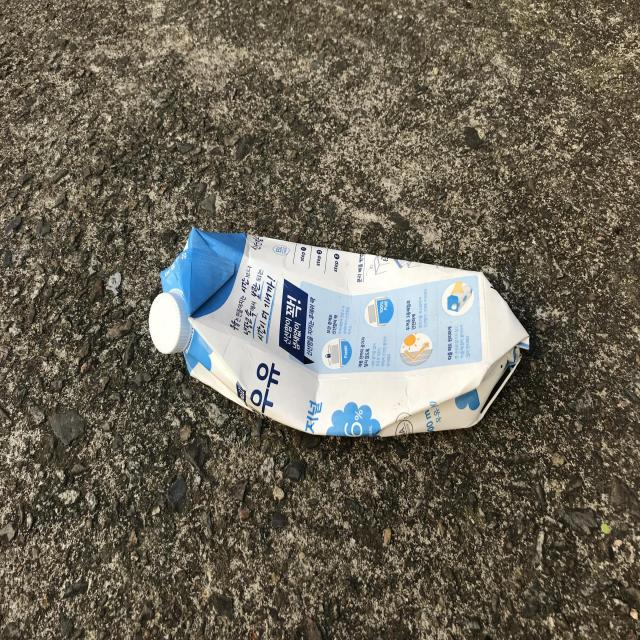paperpack: (149, 227, 530, 437)
